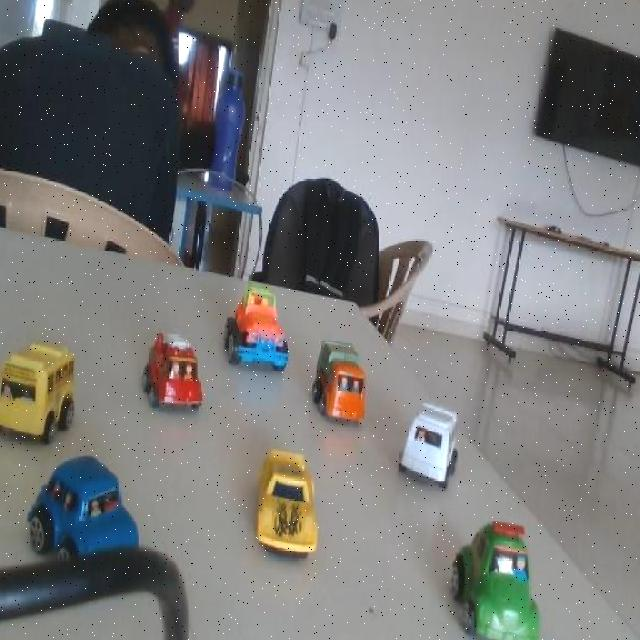car: (412, 479, 611, 640), (207, 430, 383, 592), (384, 377, 494, 514), (209, 269, 295, 379), (59, 462, 142, 572), (309, 322, 379, 444), (148, 332, 213, 425), (20, 356, 89, 436)
